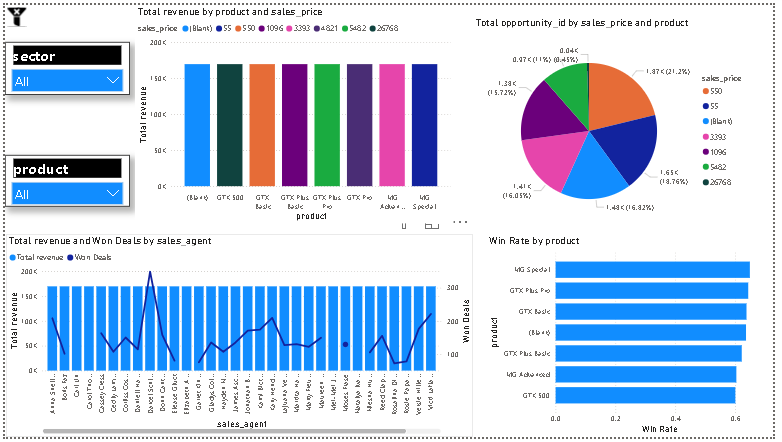

This screenshot's page, from the dashboard's own definition file:
{"tool":"powerbi","page":{"name":"Page 2","canvas":[1280,720],"ordinal":1},"visuals":[{"type":"pieChart","fields":{"Series":["sales_pipeline.product"],"Y":["CountNonNull(sales_pipeline.opportunity_id)"],"Category":["products.sales_price"]},"box":[780,19,472.7,364.4],"z":0},{"type":"lineStackedColumnComboChart","fields":{"Category":["sales_teams.sales_agent"],"Y":["Sum(accounts.revenue)"],"Y2":["sales_pipeline.Won Deals"]},"box":[1.5,382,778.5,338],"z":1000},{"type":"slicer","fields":{"Values":["accounts.sector"]},"box":[0,61.5,207.8,87.8],"z":2000},{"type":"slicer","fields":{"Values":["sales_pipeline.product"]},"box":[0,250.2,207.8,86.3],"z":3000},{"type":"barChart","fields":{"Y":["sales_pipeline.Win Rate"],"Category":["products.product"]},"box":[802,382,478.5,338],"z":4000},{"type":"lineStackedColumnComboChart","fields":{"Category":["products.product"],"Series":["products.sales_price"],"Y":["Sum(accounts.revenue)"]},"box":[217.1,0,531.4,364.3],"z":5000},{"type":"actionButton","box":[0,0,43.9,39.5],"z":5001}]}

Visuals, with their boxes in screenshot pixels (x1, y1, x2, y2), scaled from the page's 1280x720 canvas onto the 782x442 screenshot:
pieChart - sales_pipeline.product x CountNonNull(sales_pipeline.opportunity_id): [477, 12, 765, 235]
lineStackedColumnComboChart - sales_teams.sales_agent x Sum(accounts.revenue): [1, 235, 477, 441]
slicer - accounts.sector: [0, 38, 127, 92]
slicer - sales_pipeline.product: [0, 154, 127, 207]
barChart - sales_pipeline.Win Rate x products.product: [490, 235, 781, 441]
lineStackedColumnComboChart - products.product x products.sales_price: [133, 0, 457, 224]
actionButton: [0, 0, 27, 24]
